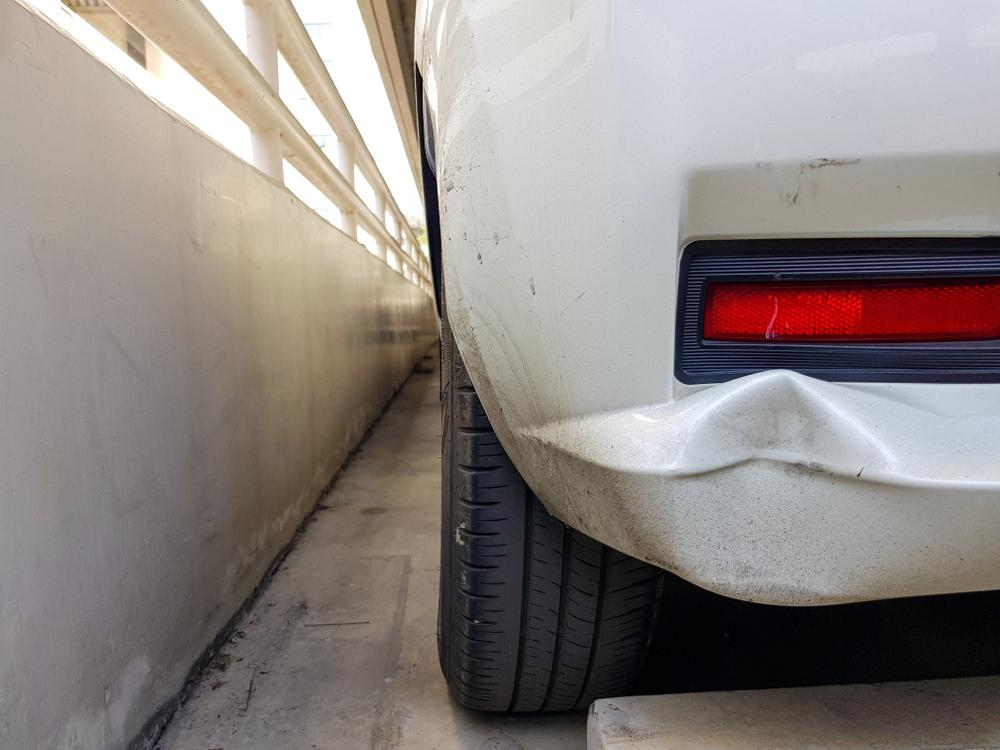dent: (670, 374, 894, 602)
